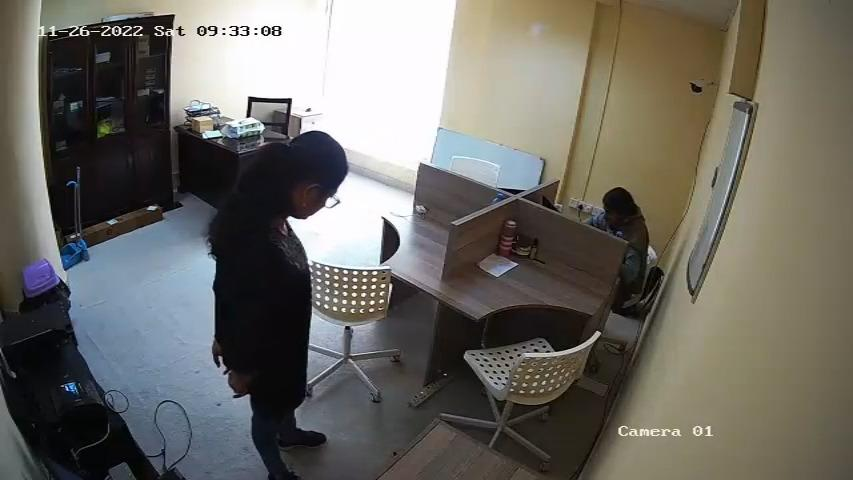no_apron: (247, 219, 312, 392)
